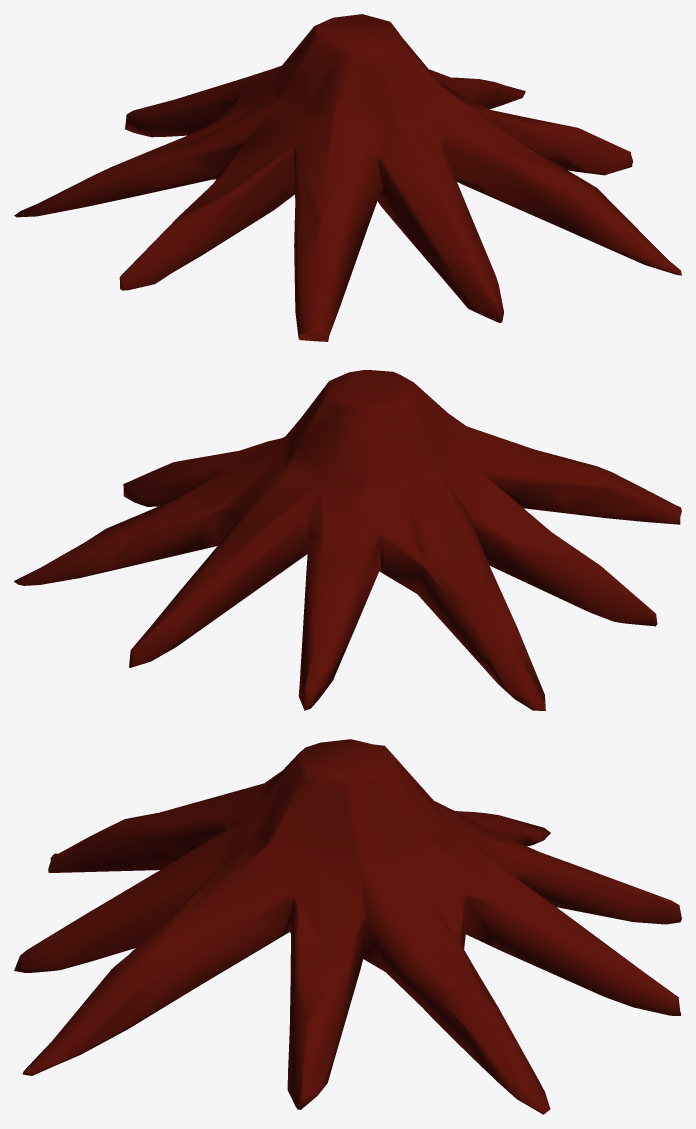
The model's file is gen3d-exposed-tree-root-lod1.glb.
The picture shows the model from 3 angles, top to bottom: view 1: azimuth 30°, elevation 25°; view 2: azimuth 150°, elevation 25°; view 3: azimuth 270°, elevation 25°; orthographic projection. The views are drawn at different scales.
Parts seen in each view (by area): view 1: part_0; view 2: part_0; view 3: part_0.
Boxes of the visible parts, box(x1,y1,x2,y2) form: part_0: box(14, 14, 681, 341); part_0: box(14, 370, 681, 710); part_0: box(14, 739, 681, 1114).
Bounding box in the file's own units: 2.88 × 0.9992 × 2.84.
